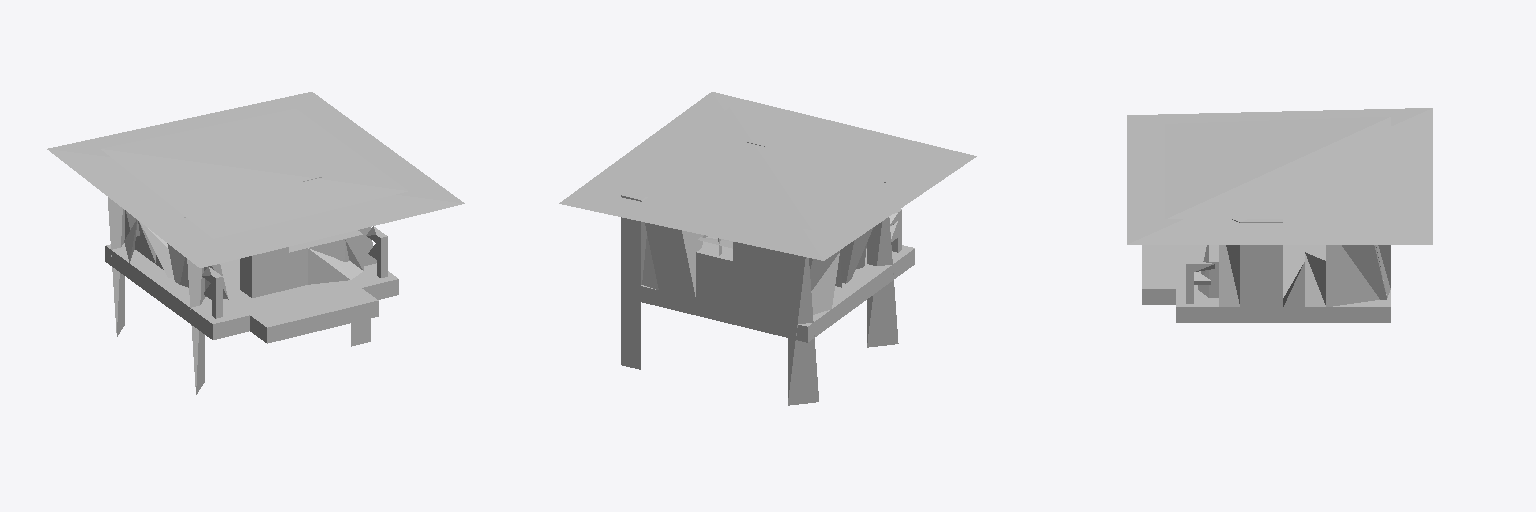
File: witchhouse05.obj
3 renders of one model, left to right at view 1: azimuth 30°, elevation 25°; view 2: azimuth 150°, elevation 25°; view 3: azimuth 270°, elevation 25°, orthographic.
Visible parts, largest first — view 1: witchhouse06:pCube6, witchhouse06:pCube7, witchhouse06:pCube17, witchhouse06:pCube5, witchhouse06:pCube11, witchhouse06:pCube9, witchhouse06:pCube14, witchhouse06:pCube13; view 2: witchhouse06:pCube6, witchhouse06:pCube7, witchhouse06:pCube5, witchhouse06:pCube17, witchhouse06:pCube11, witchhouse06:pCube4, witchhouse06:pCube9; view 3: witchhouse06:pCube6, witchhouse06:pCube7, witchhouse06:pCube5, witchhouse06:pCube17, witchhouse06:pCube14.
Boxes of the visible parts, <box> form: witchhouse06:pCube6: <box>101,109,407,238</box>; witchhouse06:pCube7: <box>47,92,464,267</box>; witchhouse06:pCube17: <box>105,236,398,339</box>; witchhouse06:pCube5: <box>124,210,395,343</box>; witchhouse06:pCube11: <box>108,197,124,336</box>; witchhouse06:pCube9: <box>184,217,204,394</box>; witchhouse06:pCube14: <box>366,226,387,277</box>; witchhouse06:pCube13: <box>202,266,222,318</box>; witchhouse06:pCube6: <box>617,107,924,229</box>; witchhouse06:pCube7: <box>559,92,976,260</box>; witchhouse06:pCube5: <box>641,197,873,333</box>; witchhouse06:pCube17: <box>641,226,914,342</box>; witchhouse06:pCube11: <box>788,253,818,405</box>; witchhouse06:pCube4: <box>621,195,640,369</box>; witchhouse06:pCube9: <box>867,182,898,347</box>; witchhouse06:pCube6: <box>1165,116,1390,218</box>; witchhouse06:pCube7: <box>1127,108,1432,244</box>; witchhouse06:pCube5: <box>1142,219,1390,306</box>; witchhouse06:pCube17: <box>1142,245,1390,322</box>; witchhouse06:pCube14: <box>1186,261,1214,303</box>.
Size of the model in its own units: 13.2 by 8.62 by 13.2.